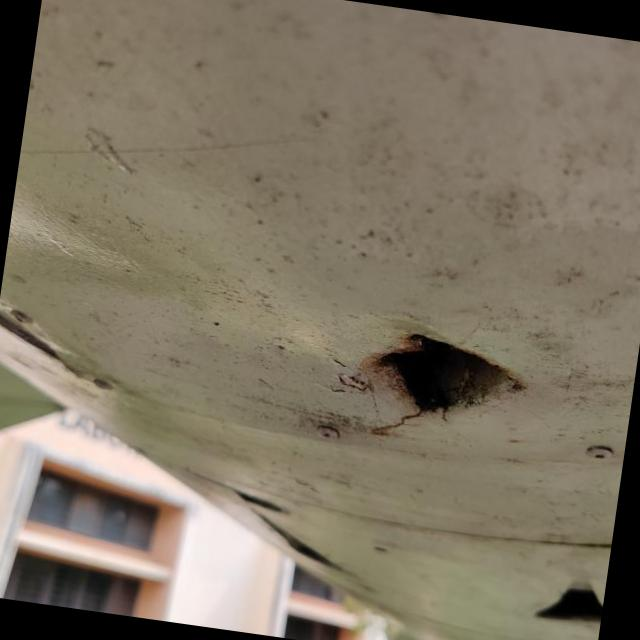Crack: (352, 335, 526, 437)
